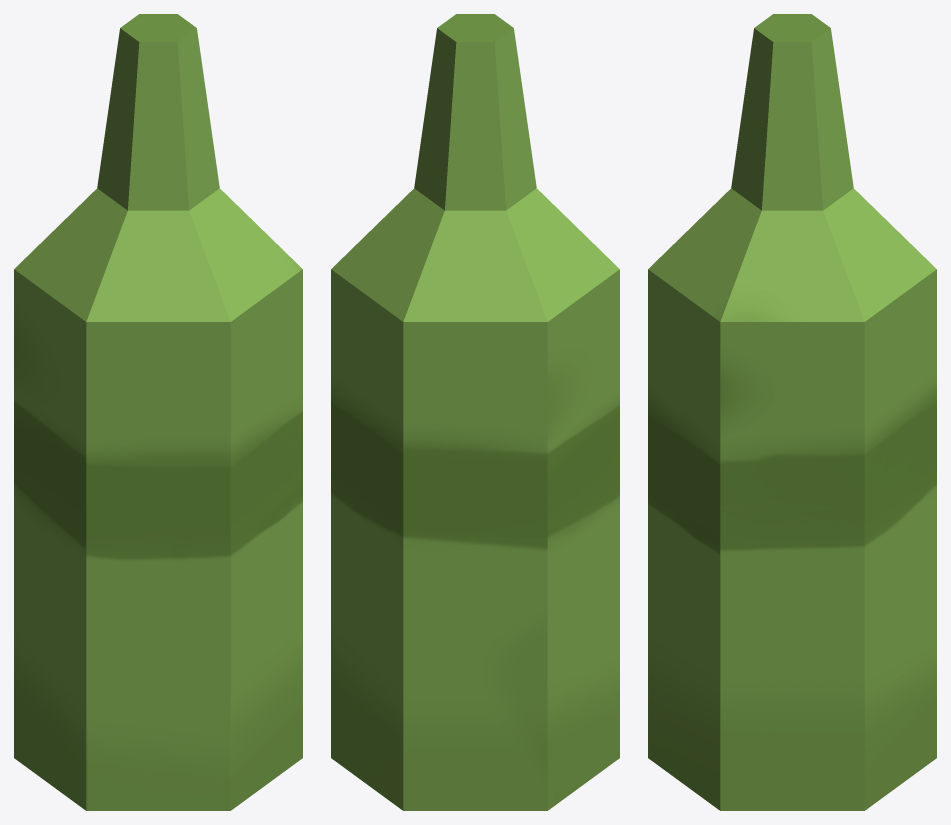
File: Bottle.fbx
The picture shows the model from 3 angles, left to right: view 1: azimuth 30°, elevation 25°; view 2: azimuth 150°, elevation 25°; view 3: azimuth 270°, elevation 25°; orthographic projection.
Visible parts, largest first — view 1: Cylinder; view 2: Cylinder; view 3: Cylinder.
Part boxes in pixels (left/top/right/bottom): Cylinder: left=14, top=14, right=302, bottom=810; Cylinder: left=331, top=14, right=619, bottom=810; Cylinder: left=648, top=14, right=936, bottom=810.
Bounding box in the file's own units: 34.84 × 112 × 40.23.
